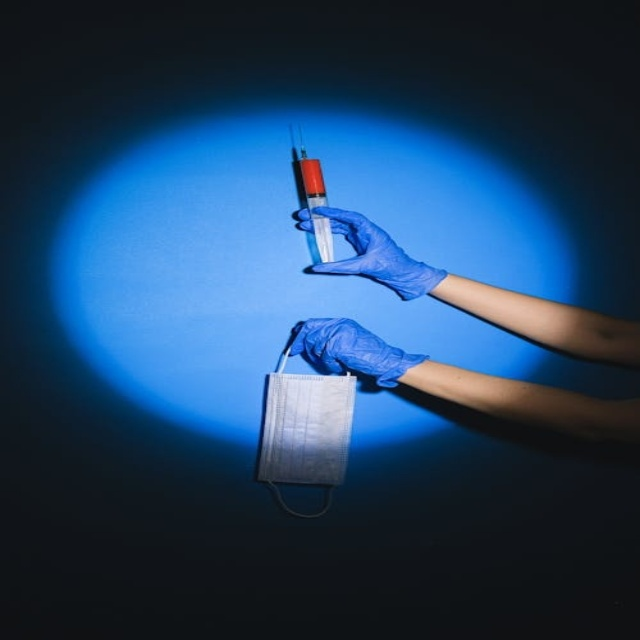Guantes: (296, 209, 448, 300), (284, 316, 430, 387)
